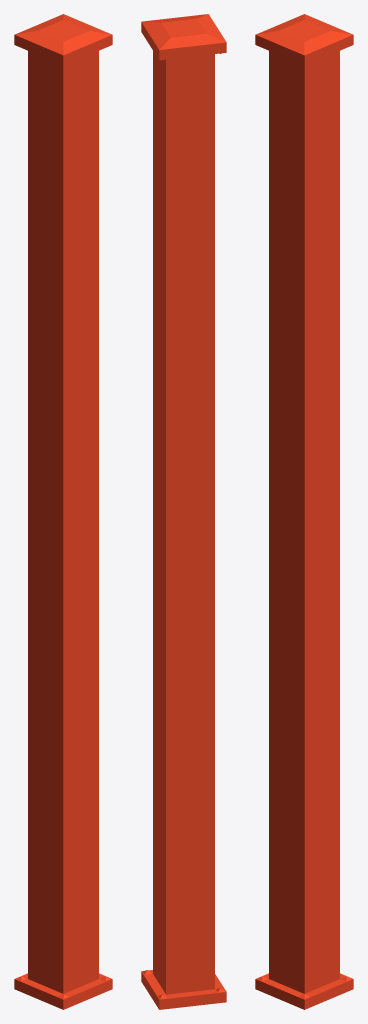
Rendered from SM_Pipe_Straight_C_City.fbx.
3 views of the same model, side by side, from view 1: azimuth 90°, elevation 25°; view 2: azimuth 150°, elevation 25°; view 3: azimuth 270°, elevation 25° (orthographic).
Parts seen in each view (by area): view 1: SM_Pipe_Straight_C_City; view 2: SM_Pipe_Straight_C_City; view 3: SM_Pipe_Straight_C_City.
Boxes of the visible parts, x1,y1,x2,y2 form: SM_Pipe_Straight_C_City: (14, 14, 112, 1009); SM_Pipe_Straight_C_City: (141, 14, 226, 1009); SM_Pipe_Straight_C_City: (255, 14, 353, 1009).
Size of the model in its own units: 0.0928 by 1 by 0.0928.
